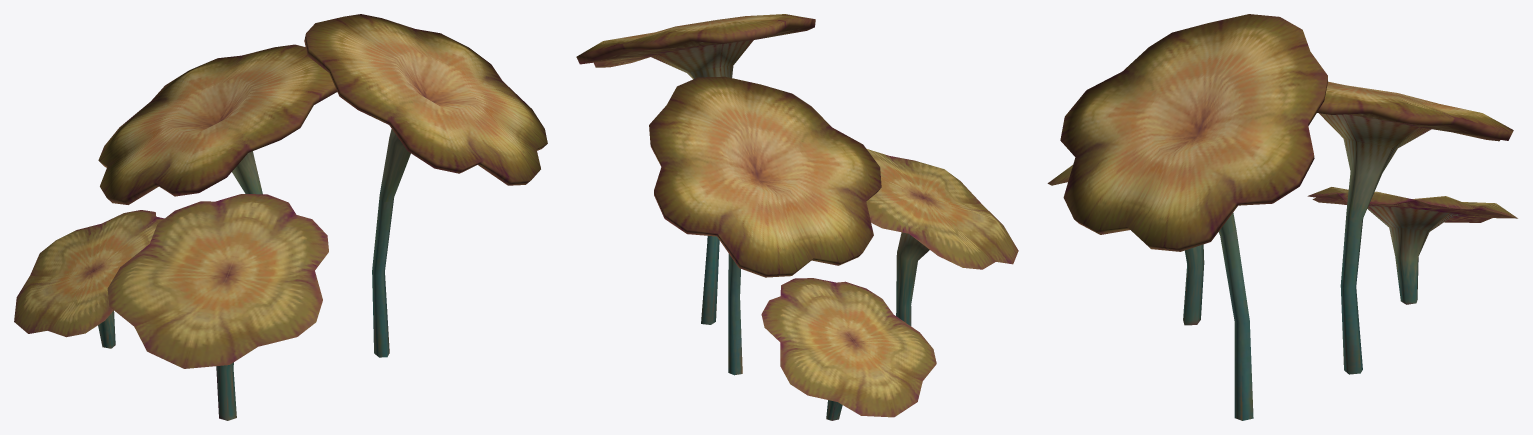
Rendered from Yland1_Zb_05_Yland1.FBX.
The picture shows the model from 3 angles, left to right: view 1: azimuth 30°, elevation 25°; view 2: azimuth 150°, elevation 25°; view 3: azimuth 270°, elevation 25°; orthographic projection. The views are drawn at different scales.
Parts seen in each view (by area): view 1: Yland1_Zb_05_Yland1; view 2: Yland1_Zb_05_Yland1; view 3: Yland1_Zb_05_Yland1.
Boxes of the visible parts, x1=… form: Yland1_Zb_05_Yland1: x1=14, y1=14, x2=547, y2=420; Yland1_Zb_05_Yland1: x1=576, y1=14, x2=1018, y2=420; Yland1_Zb_05_Yland1: x1=1047, y1=14, x2=1517, y2=420.
Bounding box in the file's own units: 3.03 × 2.26 × 2.61.
